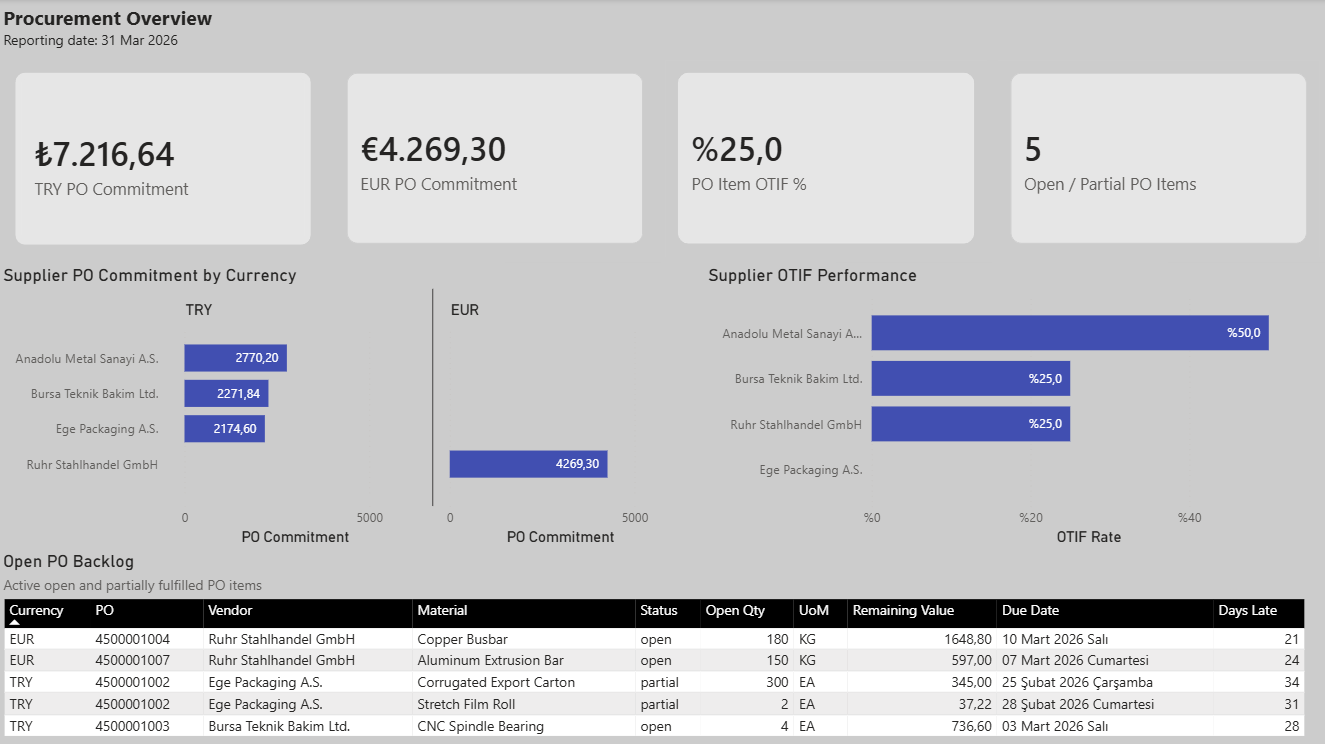

The page's visual inventory and layout, read from the dashboard file:
{"tool":"powerbi","page":{"name":"Procurement Overview","canvas":[1280,720],"ordinal":0},"visuals":[{"type":"group","id":"g1","title":"Grup 1","box":[0,54.9,1280.3,200.3],"z":0},{"type":"cardVisual","fields":{"Data":["procurement_items.TRY PO Commitment"]},"box":[0,54.9,319.7,200],"z":0,"group":"g1"},{"type":"cardVisual","fields":{"Data":["procurement_items.EUR PO Commitment"]},"box":[319.7,54.9,320.2,200],"z":1000,"group":"g1"},{"type":"clusteredBarChart","title":"Supplier PO Commitment by Currency","fields":{"Category":["procurement_items.vendor_name"],"Y":["Sum(procurement_items.net_value)"],"Rows":["procurement_items.document_currency"]},"box":[0,255.2,680.6,277.2],"z":1000},{"type":"cardVisual","fields":{"Data":["procurement_items.PO Item OTIF %"]},"box":[639.9,54.9,320.2,200],"z":2000,"group":"g1"},{"type":"clusteredBarChart","title":"Supplier OTIF Performance","fields":{"Category":["procurement_items.vendor_name"],"Y":["procurement_items.PO Item OTIF %"]},"box":[680.6,255.2,599.7,277.2],"z":2000},{"type":"cardVisual","fields":{"Data":["procurement_items.Open / Partial PO Items"]},"box":[960.1,54.9,320.2,200],"z":3000,"group":"g1"},{"type":"tableEx","title":"Open PO Backlog","fields":{"Values":["procurement_items.document_currency","procurement_items.po_number","procurement_items.vendor_name","procurement_items.material_name","procurement_items.fulfillment_status","Sum(procurement_items.open_quantity)","procurement_items.base_unit_of_measure","Sum(procurement_items.remaining_commitment_value)","procurement_items.planned_delivery_date","procurement_items.backlog_age_days"]},"box":[0,532.4,1280.3,188],"z":3000},{"type":"textbox","box":[0,0,292.3,54.9],"z":4000}]}

Visuals, with their boxes in screenshot pixels (x1, y1, x2, y2), scaled from the page's 1280x720 canvas onto the 1325x744 screenshot:
"Grup 1" group: <box>0,57,1324,264</box>
cardVisual - procurement_items.TRY PO Commitment: <box>0,57,331,263</box>
cardVisual - procurement_items.EUR PO Commitment: <box>331,57,662,263</box>
"Supplier PO Commitment by Currency" clusteredBarChart: <box>0,264,705,550</box>
cardVisual - procurement_items.PO Item OTIF %: <box>662,57,994,263</box>
"Supplier OTIF Performance" clusteredBarChart: <box>705,264,1324,550</box>
cardVisual - procurement_items.Open / Partial PO Items: <box>994,57,1324,263</box>
"Open PO Backlog" tableEx: <box>0,550,1324,743</box>
textbox: <box>0,0,303,57</box>
